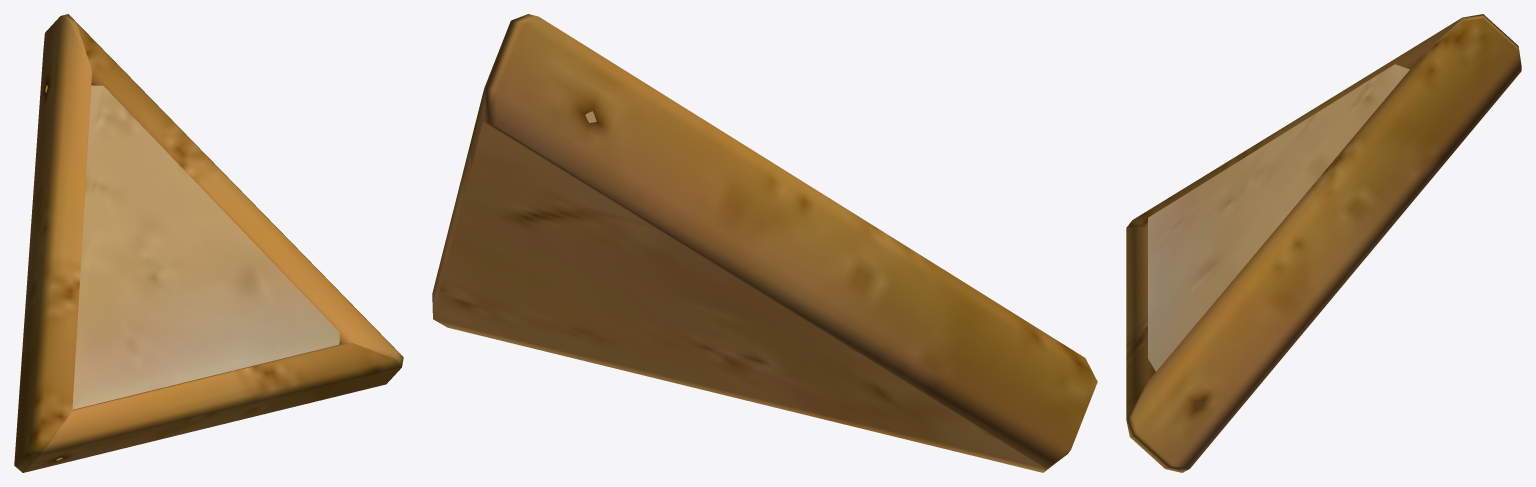
3 renders of one model, left to right at view 1: azimuth 30°, elevation 25°; view 2: azimuth 150°, elevation 25°; view 3: azimuth 270°, elevation 25°, orthographic. The views are drawn at different scales.
Parts seen in each view (by area): view 1: SM_Vault_Mirror_Button_Plinth_Arrow_Up_LOD0; view 2: SM_Vault_Mirror_Button_Plinth_Arrow_Up_LOD0; view 3: SM_Vault_Mirror_Button_Plinth_Arrow_Up_LOD0.
Boxes of the visible parts, x1,y1,x2,y2 form: SM_Vault_Mirror_Button_Plinth_Arrow_Up_LOD0: (14, 14, 403, 472); SM_Vault_Mirror_Button_Plinth_Arrow_Up_LOD0: (432, 14, 1097, 472); SM_Vault_Mirror_Button_Plinth_Arrow_Up_LOD0: (1126, 14, 1521, 472).
Bounding box in the file's own units: 0.1956 × 0.1592 × 0.1582.
2 materials, 2 textured.
